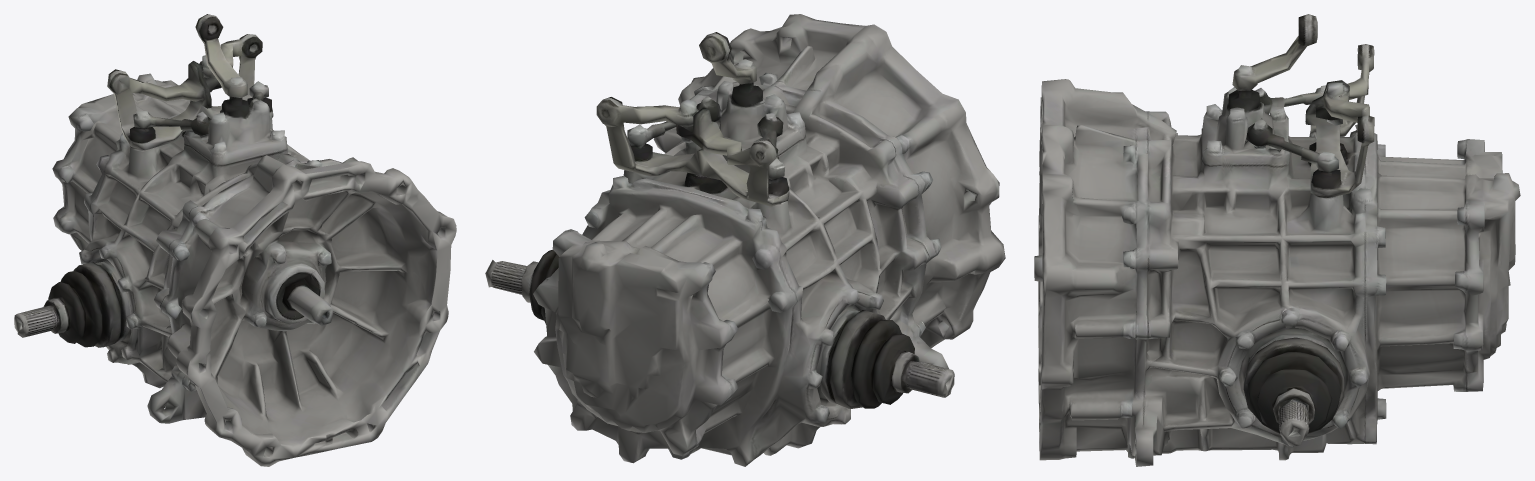
File: manual-transmission-assy.glb
3 renders of one model, left to right at view 1: azimuth 30°, elevation 25°; view 2: azimuth 150°, elevation 25°; view 3: azimuth 270°, elevation 25°, orthographic. The views are drawn at different scales.
Parts seen in each view (by area): view 1: tripo_node_7ea0d431-fccb-44c8-896d-834223521e50; view 2: tripo_node_7ea0d431-fccb-44c8-896d-834223521e50; view 3: tripo_node_7ea0d431-fccb-44c8-896d-834223521e50.
Boxes of the visible parts, left/top/right/bottom form: tripo_node_7ea0d431-fccb-44c8-896d-834223521e50: left=14, top=14, right=456, bottom=466; tripo_node_7ea0d431-fccb-44c8-896d-834223521e50: left=485, top=14, right=1005, bottom=466; tripo_node_7ea0d431-fccb-44c8-896d-834223521e50: left=1034, top=14, right=1520, bottom=466.
Size of the model in its own units: 1 by 0.8584 by 0.9079.
1 material, 1 textured.
